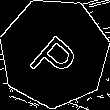P_NE: (24, 22, 85, 84)
